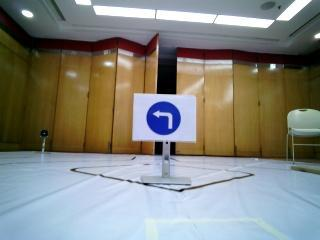left: (140, 94, 198, 141)
